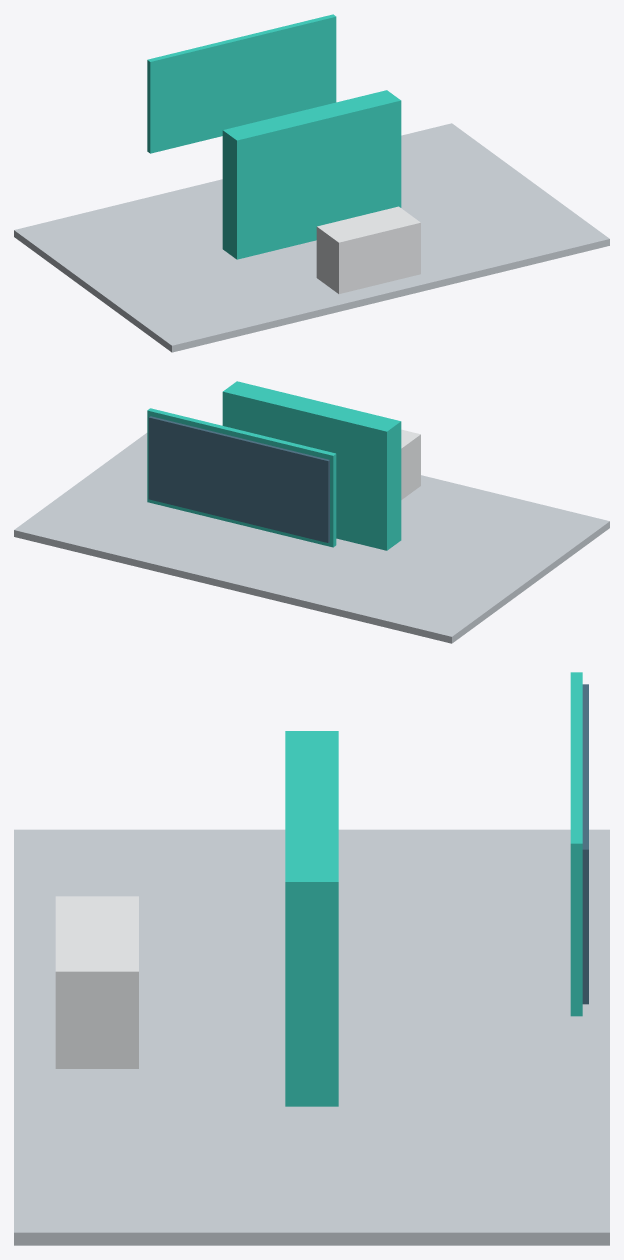
3 views of the same model, one above another, from view 1: azimuth 30°, elevation 25°; view 2: azimuth 150°, elevation 25°; view 3: azimuth 270°, elevation 25° (orthographic). The views are drawn at different scales.
Parts seen in each view (by area): view 1: Exhibition Booth Concept; view 2: Exhibition Booth Concept; view 3: Exhibition Booth Concept.
Part boxes in pixels (x1=…): Exhibition Booth Concept: x1=14, y1=14, x2=609, y2=352; Exhibition Booth Concept: x1=14, y1=381, x2=609, y2=643; Exhibition Booth Concept: x1=14, y1=672, x2=609, y2=1245.
Size of the model in its own units: 8 by 2.65 by 5.
